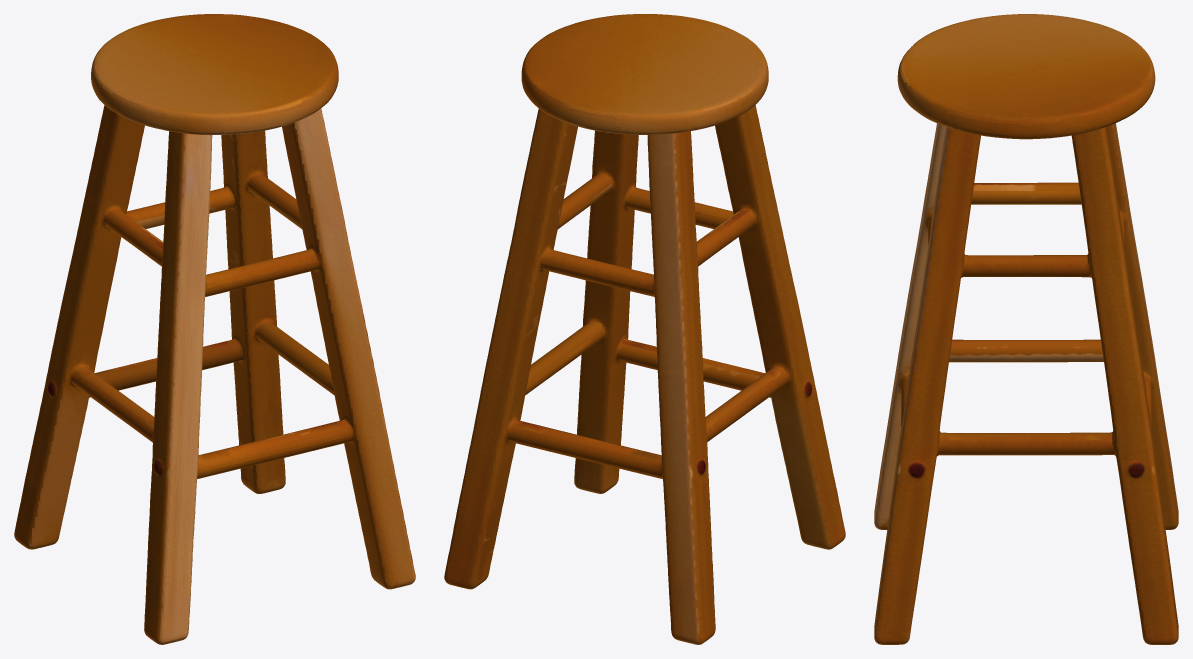
File: stool__stool#4.glb
3 renders of one model, left to right at view 1: azimuth 30°, elevation 25°; view 2: azimuth 150°, elevation 25°; view 3: azimuth 270°, elevation 25°, orthographic. The views are drawn at different scales.
Parts seen in each view (by area): view 1: tmpf4_d8u6m.ply; view 2: tmpf4_d8u6m.ply; view 3: tmpf4_d8u6m.ply.
Boxes of the visible parts, x1,y1,x2,y2 form: tmpf4_d8u6m.ply: (14, 14, 415, 644); tmpf4_d8u6m.ply: (444, 14, 845, 644); tmpf4_d8u6m.ply: (874, 14, 1178, 644).
Size of the model in its own units: 1.08 by 1.99 by 1.06.
1 material, 1 textured.
